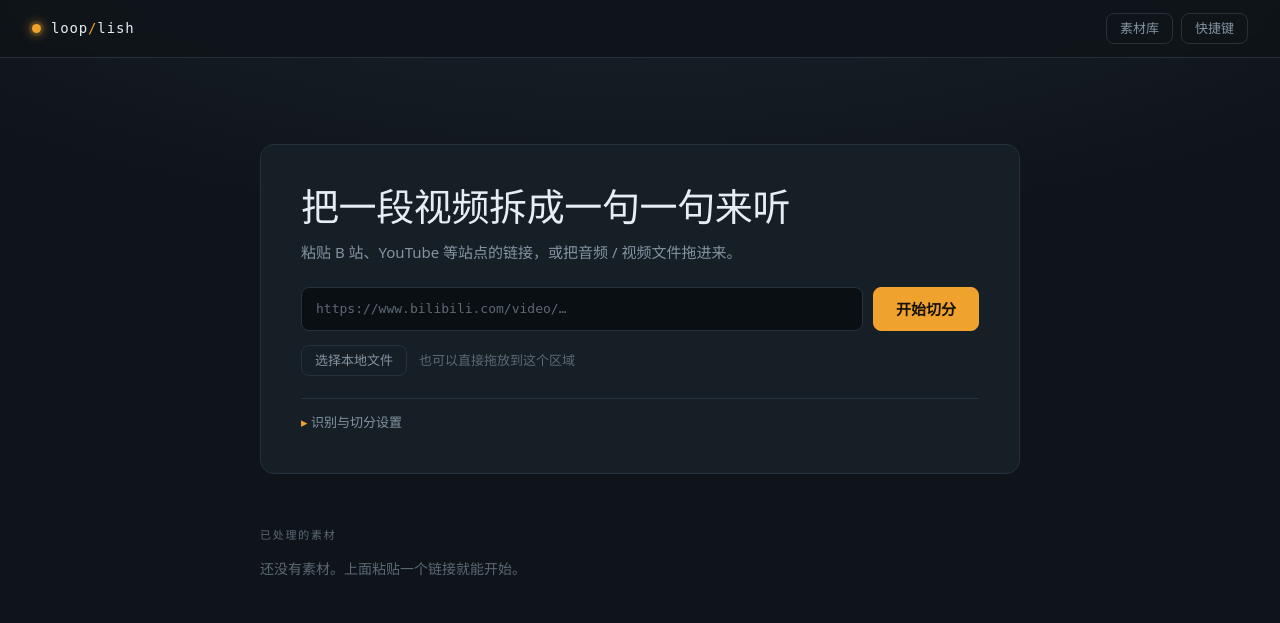
Test: submission › only offers links when the server disables local paths
The width and height of the screenshot is (1280, 623).
Type "C:/media/talk.mp4" into the field named "视频链接" at (582, 309), box [301,287,863,330]
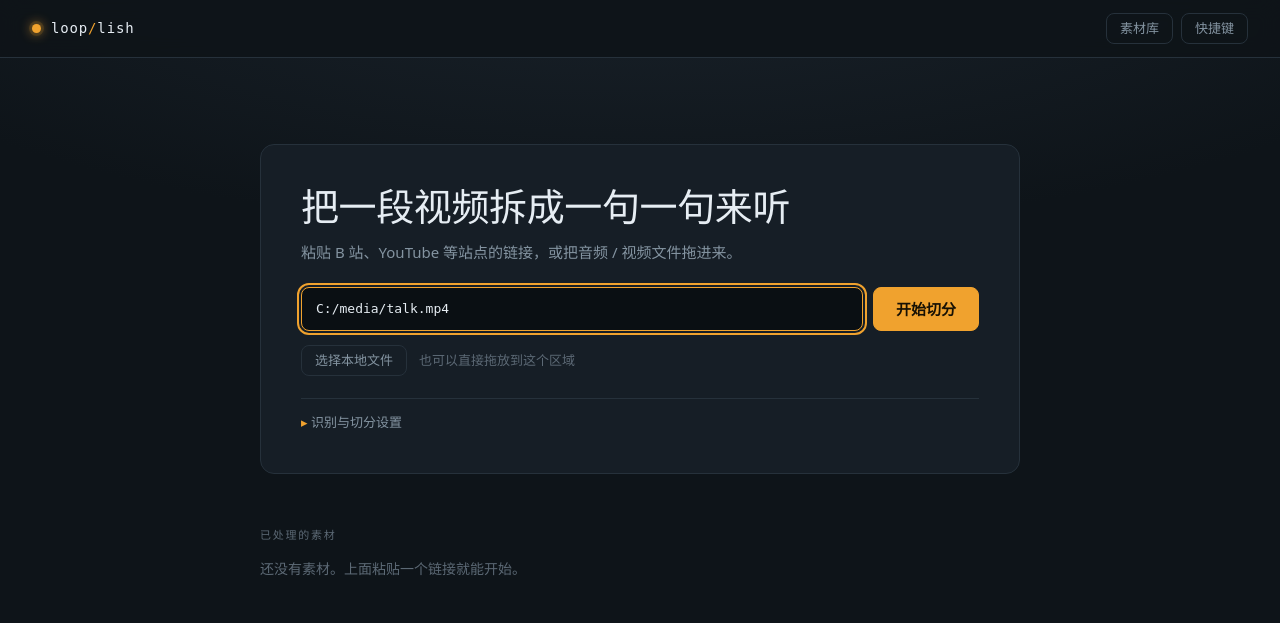
Click the button "开始切分" at (926, 309), box [873,287,979,330]
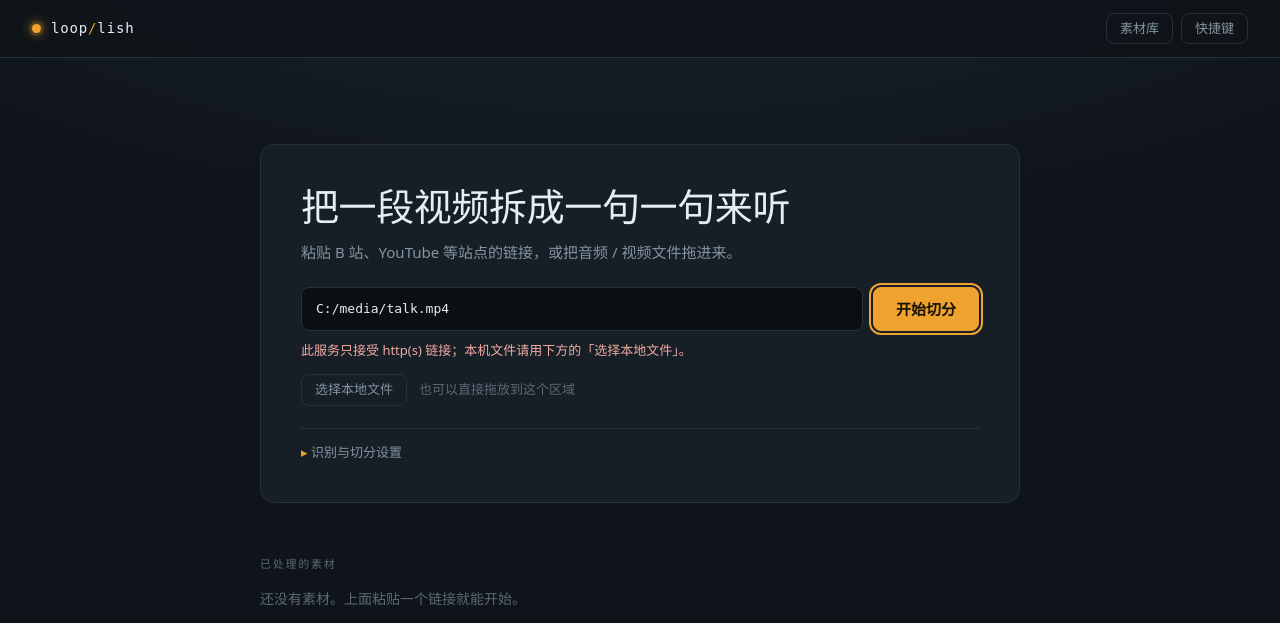
Expected: the message shows "只接受 http(s) 链接", [301,340,692,358]
